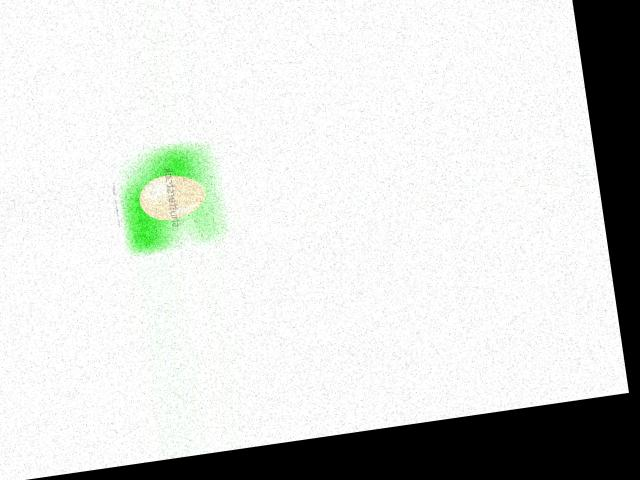egg: (136, 170, 208, 223)
